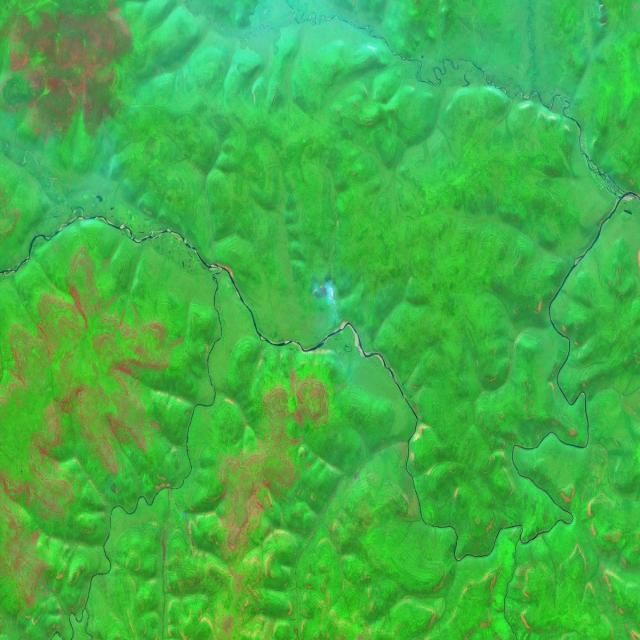fire: (311, 279, 339, 309)
